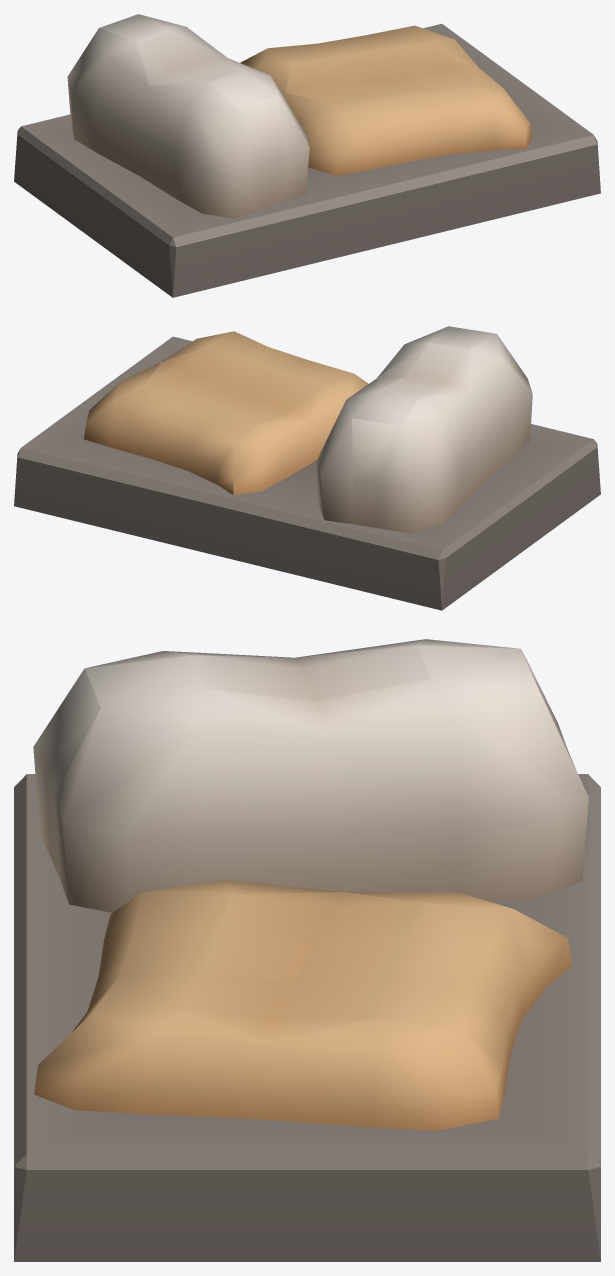
File: BunkYourRoom.glb
The picture shows the model from 3 angles, top to bottom: view 1: azimuth 30°, elevation 25°; view 2: azimuth 150°, elevation 25°; view 3: azimuth 270°, elevation 25°; orthographic projection. The views are drawn at different scales.
Parts seen in each view (by area): view 1: bed_floor; view 2: bed_floor; view 3: bed_floor.
Boxes of the visible parts, x1=… form: bed_floor: x1=14, y1=14, x2=600, y2=297; bed_floor: x1=14, y1=326, x2=600, y2=610; bed_floor: x1=14, y1=639, x2=600, y2=1261.
Bounding box in the file's own units: 1.4 × 0.5 × 0.9.
Materials: 1 (1 with a texture image).
